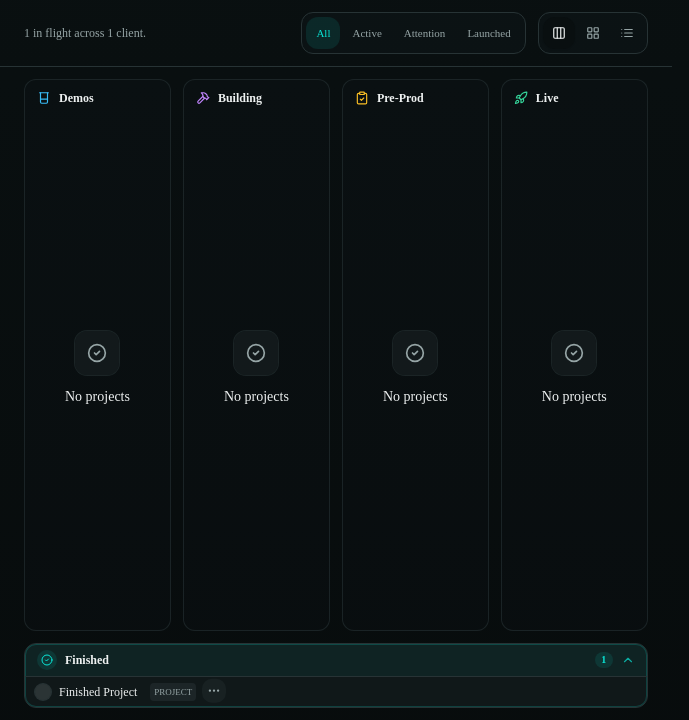
Test: QualiaProjectsGallery › opens the status menu from a finished project row action
The width and height of the screenshot is (689, 720).
Click the button named "Move Finished Project" at (214, 690), box [202, 678, 226, 702]
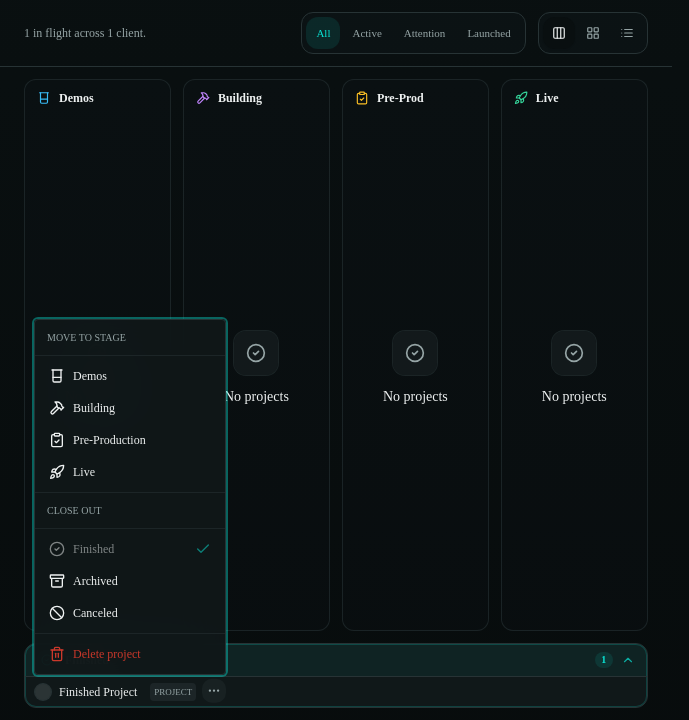
Result: the text "Move to stage" is shown at [47, 332, 126, 343]
Result: the menu item "Building" is shown at [49, 400, 115, 416]
Result: the menu item "Archived" is shown at [49, 573, 118, 589]
